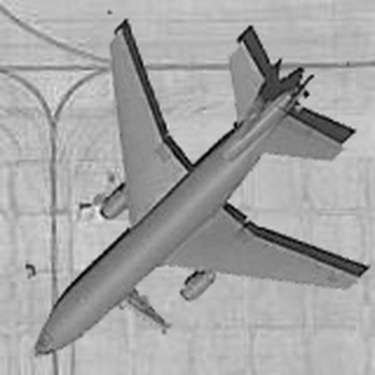airplane: (22, 9, 367, 361)
